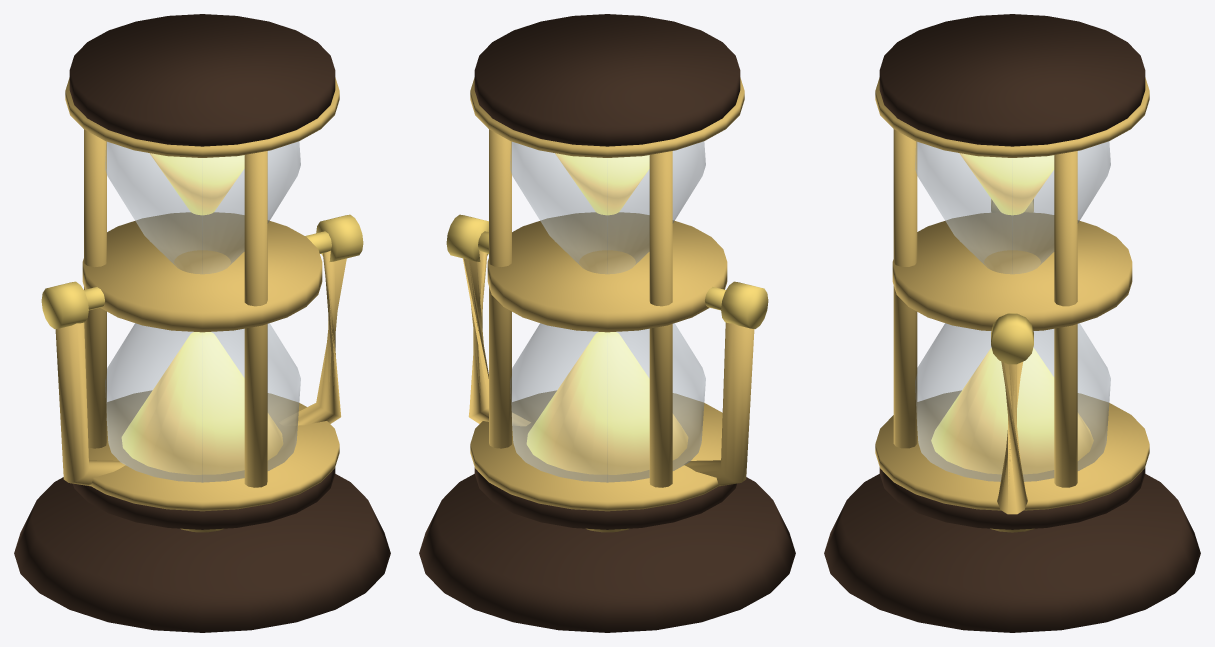
The model's file is settings_hourglass.glb.
3 renders of one model, left to right at view 1: azimuth 30°, elevation 25°; view 2: azimuth 150°, elevation 25°; view 3: azimuth 270°, elevation 25°, orthographic.
Parts seen in each view (by area): view 1: StandBase, GlassBulbs, Cap_1, WaistRing, BottomSand, Trim_-1, GimbalYoke, Pillar_2, Pillar_1, Cap_-1, Trim_1, TopSand (+2 smaller); view 2: StandBase, GlassBulbs, Cap_1, WaistRing, BottomSand, Trim_-1, GimbalYoke, Pillar_1, Pillar_0, Cap_-1, Trim_1, TopSand (+2 smaller); view 3: StandBase, GlassBulbs, Cap_1, WaistRing, Trim_-1, BottomSand, Pillar_0, Pillar_2, Cap_-1, Trim_1, TopSand, GimbalYoke (+1 smaller).
Boxes of the visible parts, x1,y1,x2,y2 form: StandBase: [14, 474, 390, 632]; GlassBulbs: [105, 141, 300, 482]; Cap_1: [69, 14, 335, 146]; WaistRing: [82, 212, 322, 332]; BottomSand: [121, 332, 283, 474]; Trim_-1: [88, 390, 339, 511]; GimbalYoke: [55, 250, 346, 486]; Pillar_2: [244, 151, 267, 487]; Pillar_1: [84, 129, 106, 448]; Cap_-1: [73, 467, 335, 529]; Trim_1: [65, 77, 339, 157]; TopSand: [149, 153, 244, 215]; StandBase: [419, 474, 795, 632]; GlassBulbs: [510, 141, 705, 482]; Cap_1: [474, 14, 740, 146]; WaistRing: [487, 212, 727, 332]; BottomSand: [526, 332, 688, 474]; Trim_-1: [470, 390, 722, 511]; GimbalYoke: [463, 250, 754, 486]; Pillar_1: [649, 151, 672, 487]; Pillar_0: [489, 129, 511, 448]; Cap_-1: [474, 467, 736, 529]; Trim_1: [470, 77, 744, 157]; TopSand: [555, 153, 649, 215]; StandBase: [824, 474, 1200, 632]; GlassBulbs: [915, 141, 1110, 481]; Cap_1: [879, 14, 1145, 146]; WaistRing: [892, 212, 1132, 330]; Trim_-1: [875, 390, 1149, 510]; BottomSand: [931, 347, 1093, 474]; Pillar_0: [1054, 151, 1077, 487]; Pillar_2: [893, 129, 917, 448]; Cap_-1: [879, 467, 1145, 529]; Trim_1: [875, 77, 1149, 157]; TopSand: [959, 153, 1054, 215]; GimbalYoke: [997, 361, 1027, 514].
Size of the model in its own units: 0.176 by 0.249 by 0.176.
